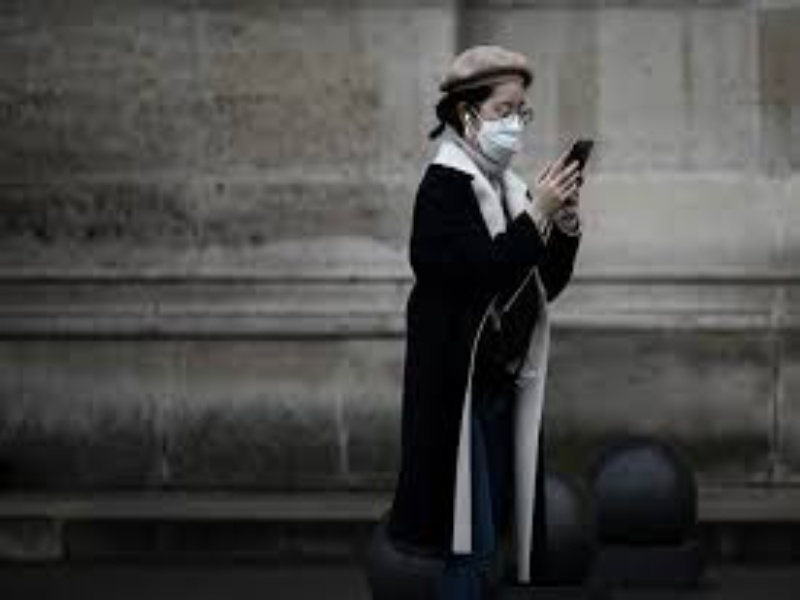ManaoArotava: (425, 46, 559, 178)
